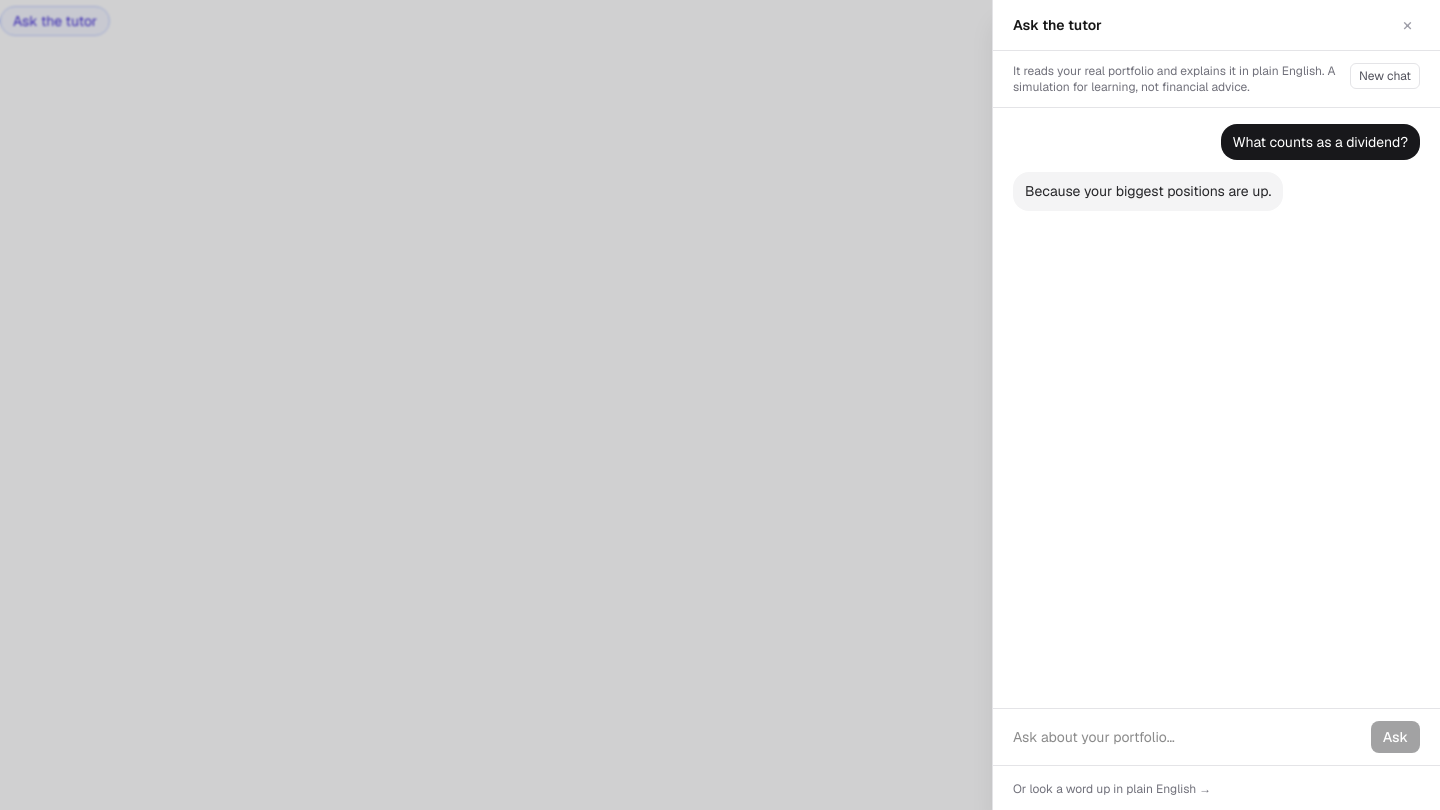
Test case: TutorPanel › warns before clearing, and keeps the chat if you cancel
Click the button "New chat" at (1385, 76), box [1350,63,1420,89]
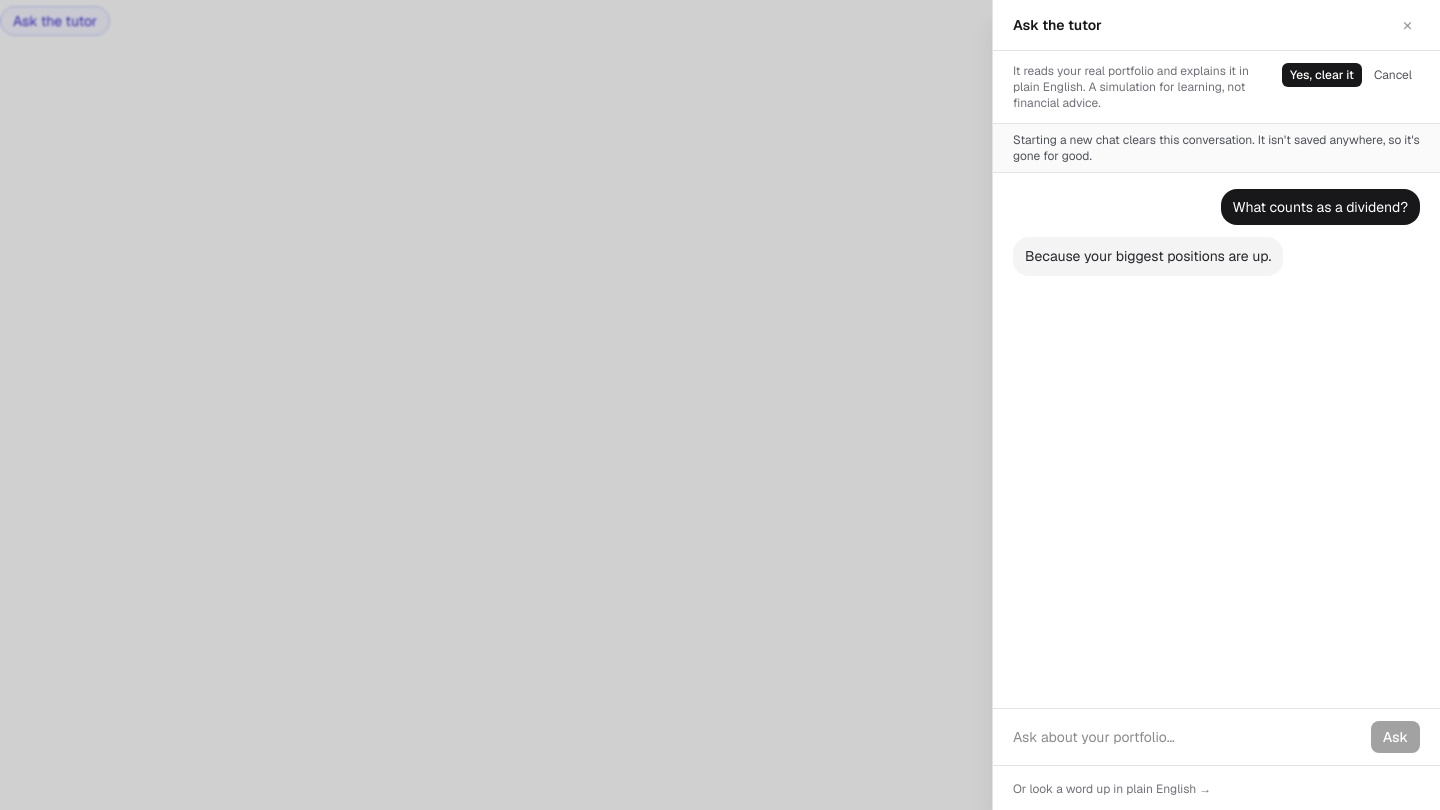
expect the text "clears this conversation" is shown: met, box [1013,132,1420,164]
Click the button "Cancel" at (1393, 75), box [1366,63,1420,87]
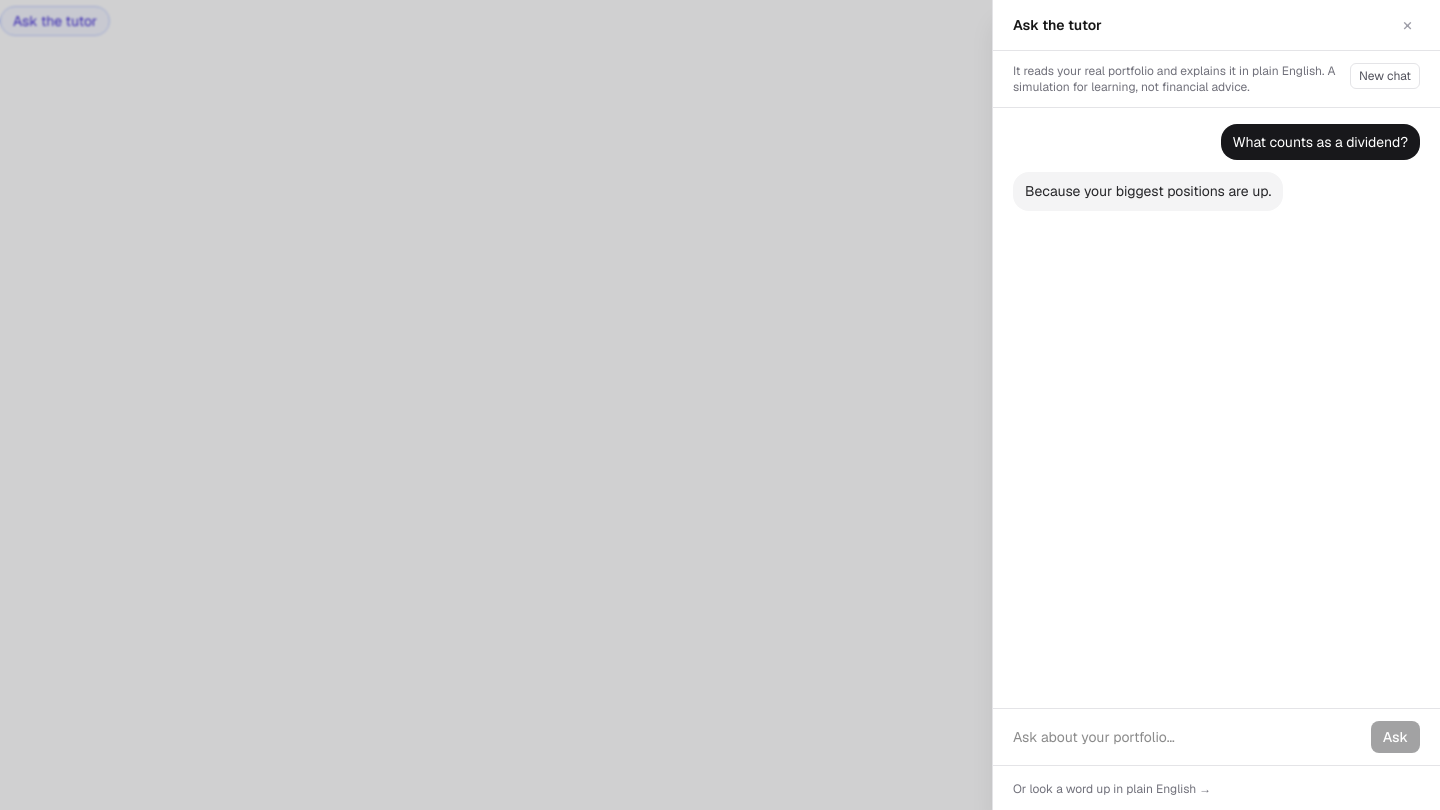
expect the text "What counts as a dividend?" is shown: met, box [1220,124,1420,160]
expect the text "clears this conversation" is gone: met
